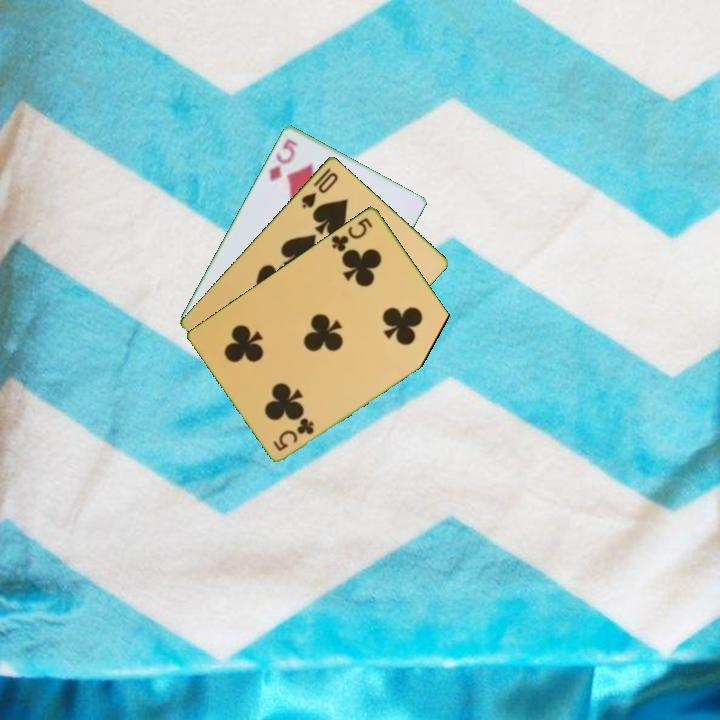10s: (298, 168, 341, 211)
5c: (328, 213, 376, 254), (269, 415, 317, 454)
5d: (265, 135, 302, 185)
